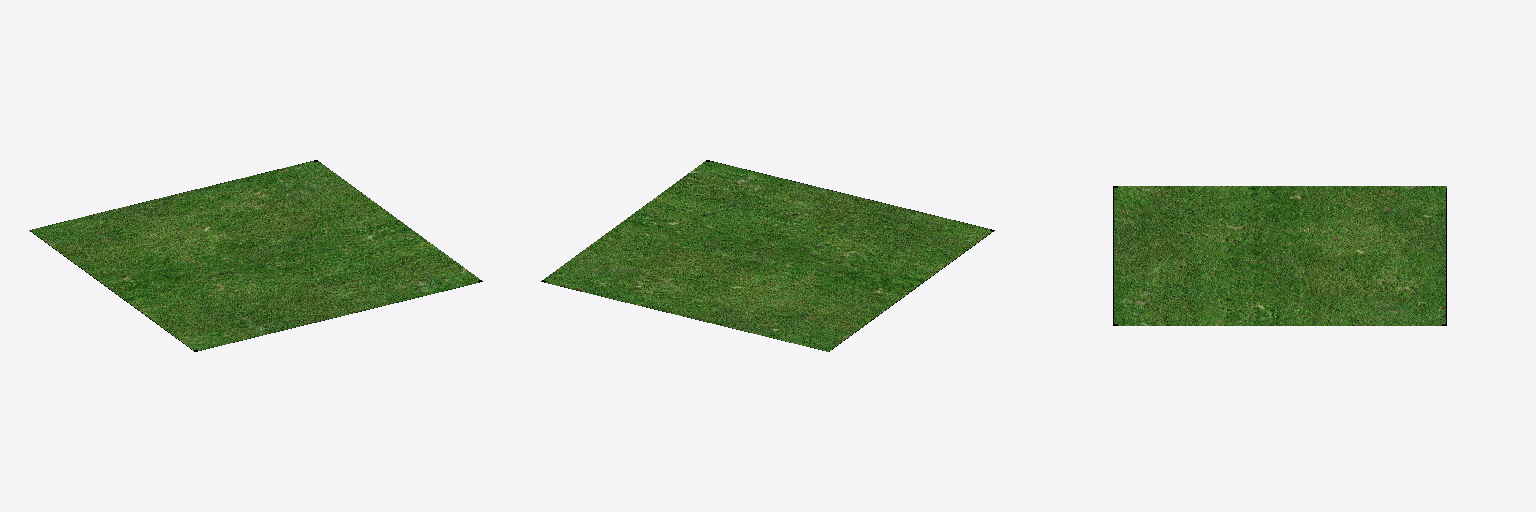
The picture shows the model from 3 angles: view 1: azimuth 30°, elevation 25°; view 2: azimuth 150°, elevation 25°; view 3: azimuth 270°, elevation 25°; orthographic projection.
Visible parts, largest first — view 1: Plane.001; view 2: Plane.001; view 3: Plane.001.
Boxes of the visible parts, box(x1,y1,x2,y2) form: Plane.001: box(29, 160, 482, 351); Plane.001: box(541, 160, 994, 351); Plane.001: box(1113, 186, 1446, 325).
Size of the model in its own units: 20.69 by 0 by 20.69.
1 materials, 1 textured.